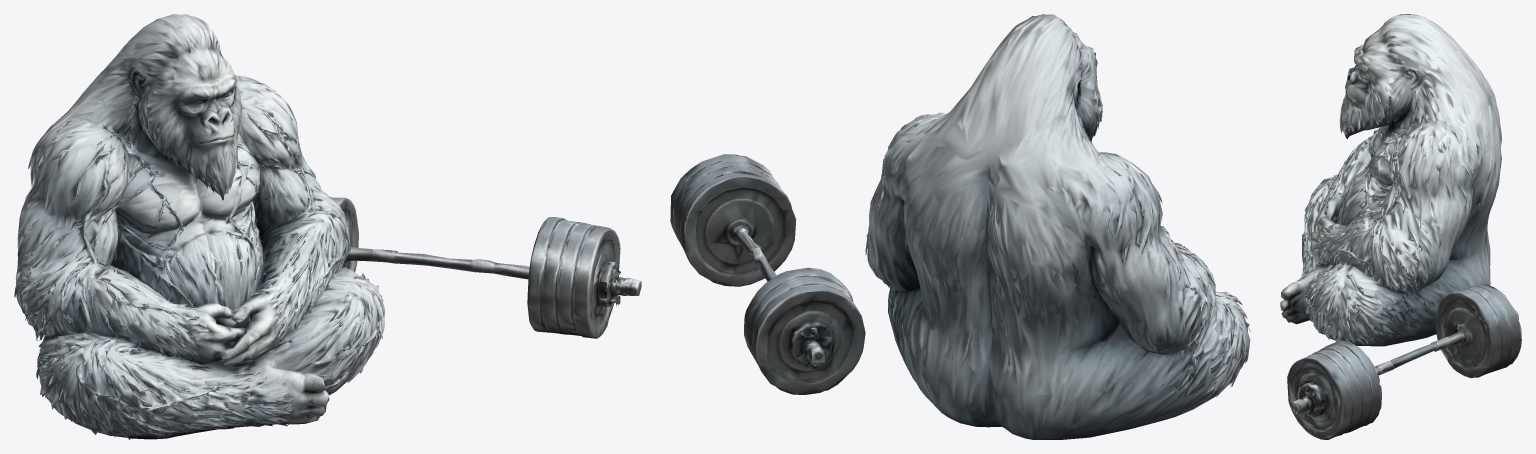
File: goro_8.glb
3 views of the same model, side by side, from view 1: azimuth 30°, elevation 25°; view 2: azimuth 150°, elevation 25°; view 3: azimuth 270°, elevation 25° (orthographic). The views are drawn at different scales.
Size of the model in its own units: 0.9779 by 0.6141 by 0.4672.
1 material, 1 textured.
